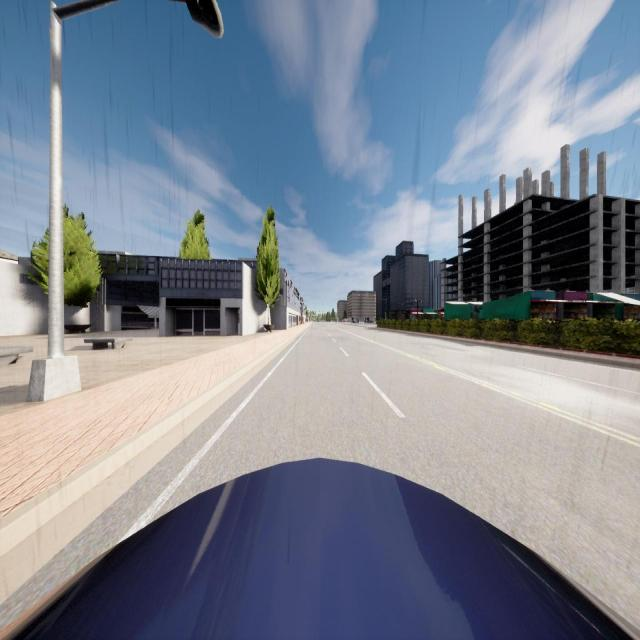Vehicle: (0, 459, 640, 640), (364, 318, 373, 323), (352, 318, 359, 323)
